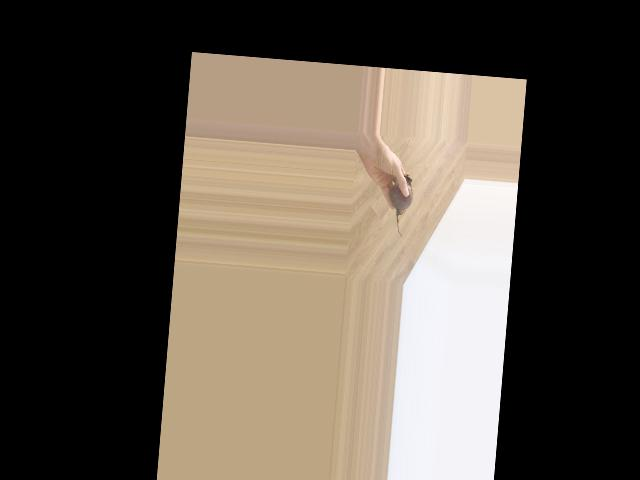beet: (387, 173, 414, 237)
